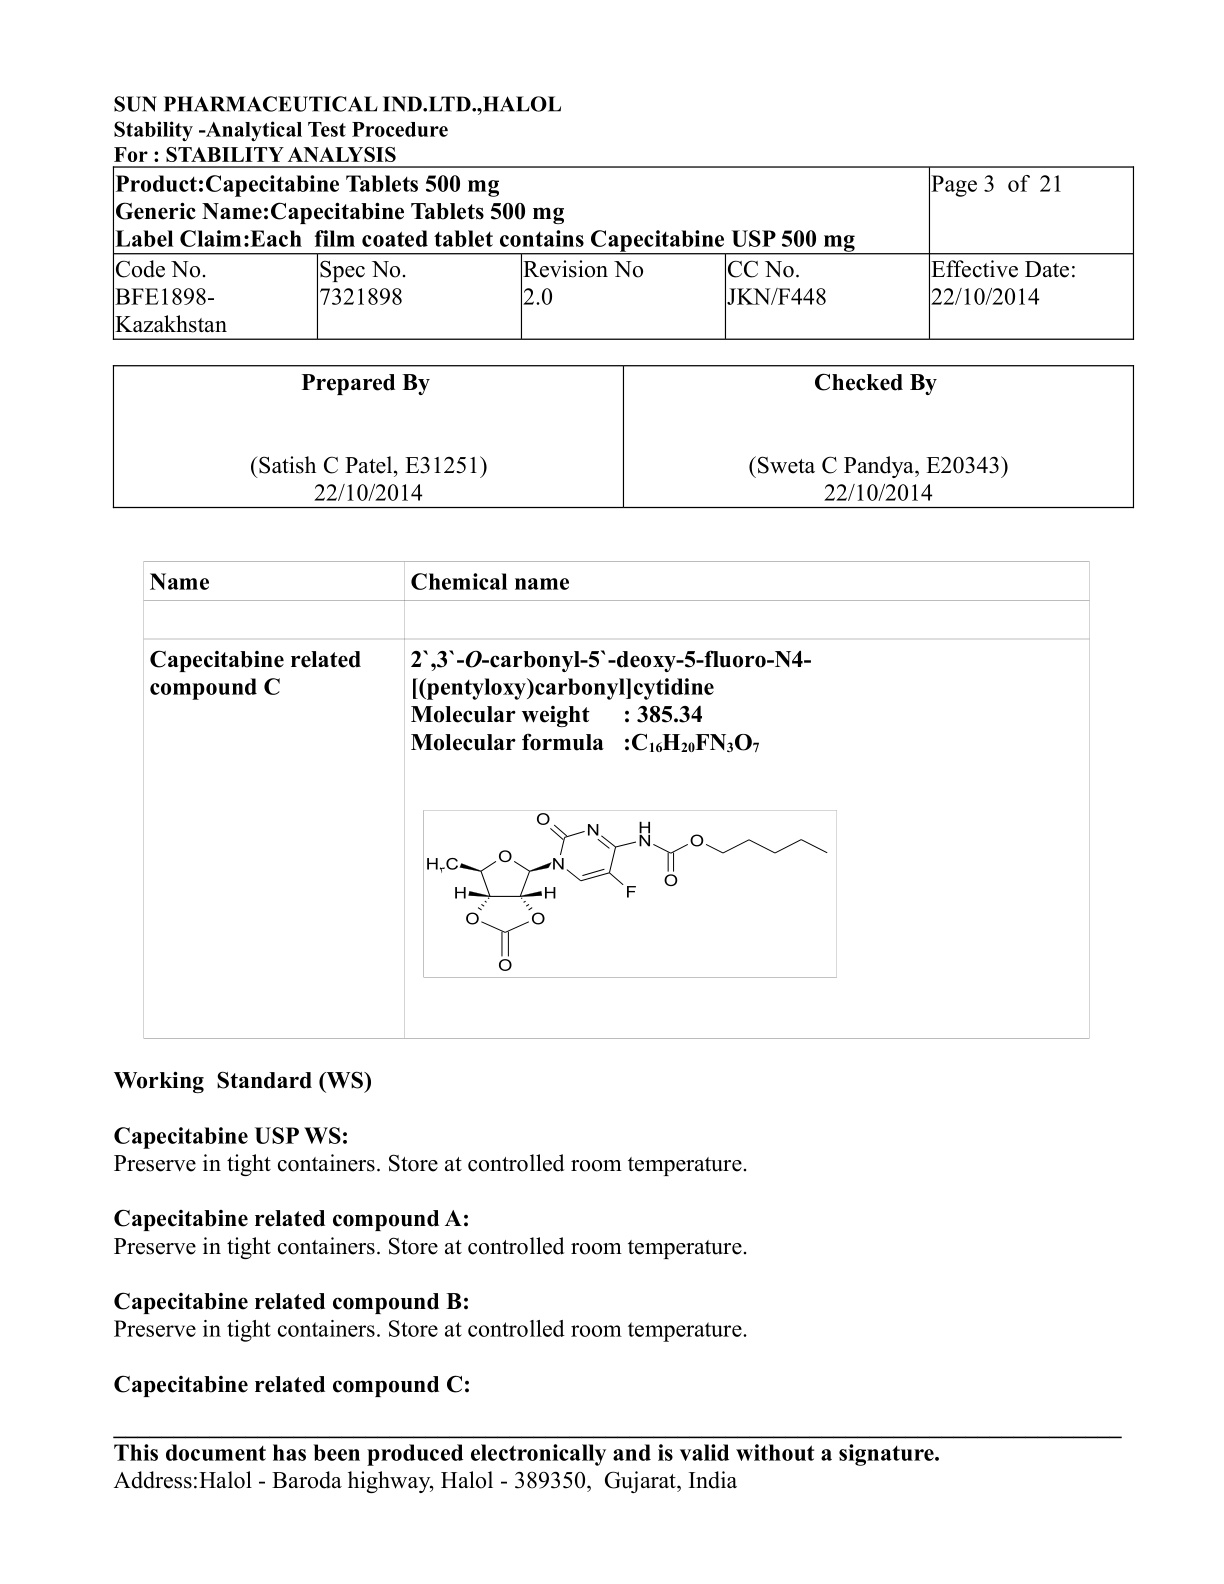full_lined: (143, 561, 1090, 1039)
merged_cells: (112, 165, 1135, 339)
partial_lined: (112, 363, 1135, 509)
